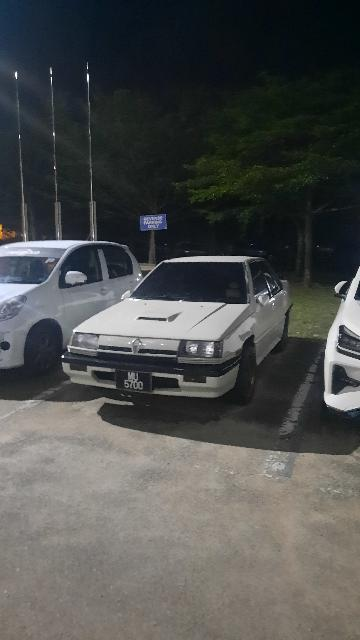License_Plate: (111, 365, 158, 397)
car: (66, 254, 296, 407)
